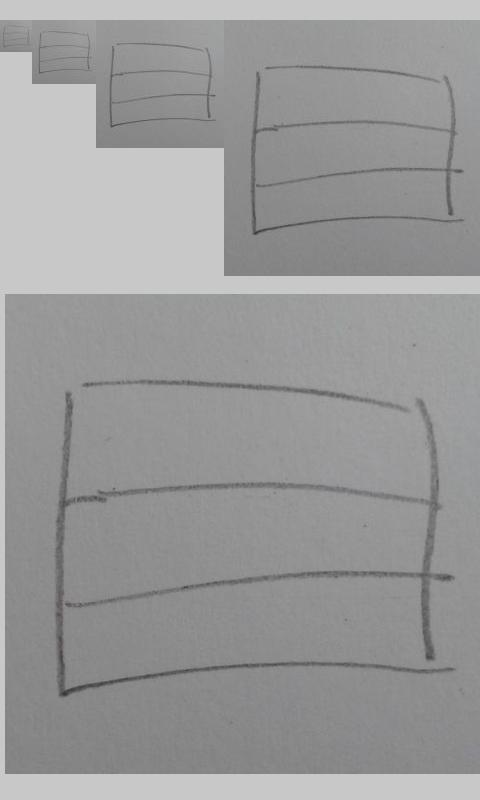list_view: (53, 374, 442, 701), (249, 63, 456, 234), (108, 40, 213, 129), (37, 30, 91, 75), (2, 24, 30, 48)
